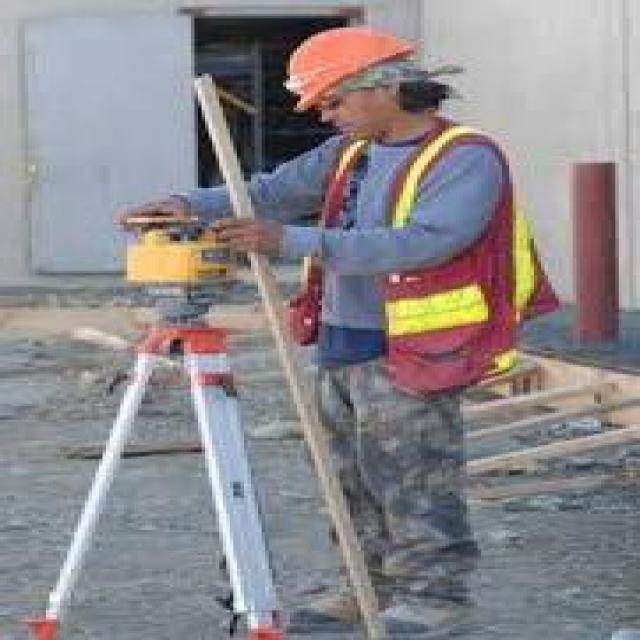Reflective-Jacket: (279, 124, 555, 378)
Safety-Helmet: (258, 18, 456, 117)
